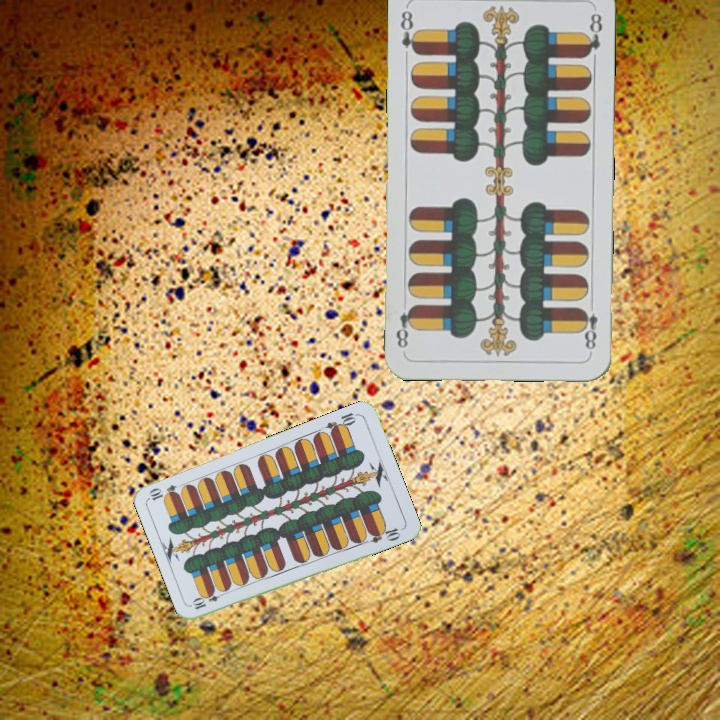E10: (322, 408, 361, 437), (189, 587, 228, 612)
E8: (577, 296, 600, 355), (396, 7, 421, 58)
